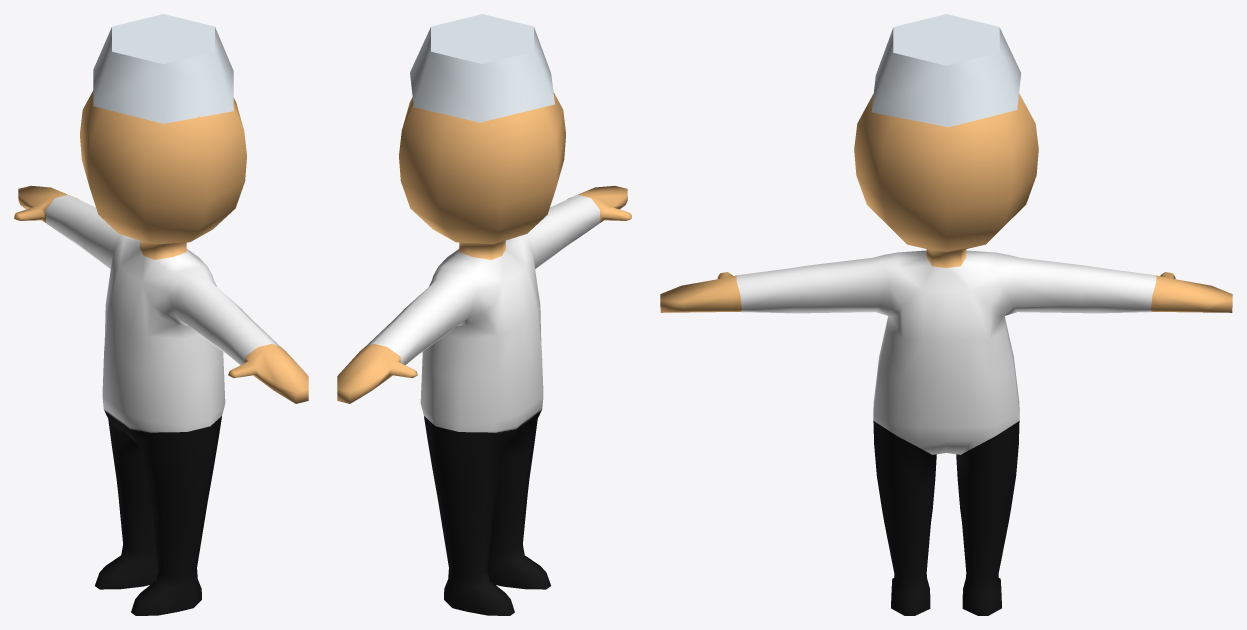
The model's file is New_porter.FBX.
The picture shows the model from 3 angles, left to right: view 1: azimuth 30°, elevation 25°; view 2: azimuth 150°, elevation 25°; view 3: azimuth 270°, elevation 25°; orthographic projection. The views are drawn at different scales.
Parts seen in each view (by area): view 1: Character008; view 2: Character008; view 3: Character008.
Part boxes in pixels (box(x1,y1,x2,y2)): Character008: box(14, 14, 308, 615); Character008: box(337, 14, 631, 615); Character008: box(660, 14, 1232, 615).
Bounding box in the file's own units: 0.7003 × 2.44 × 2.24.
